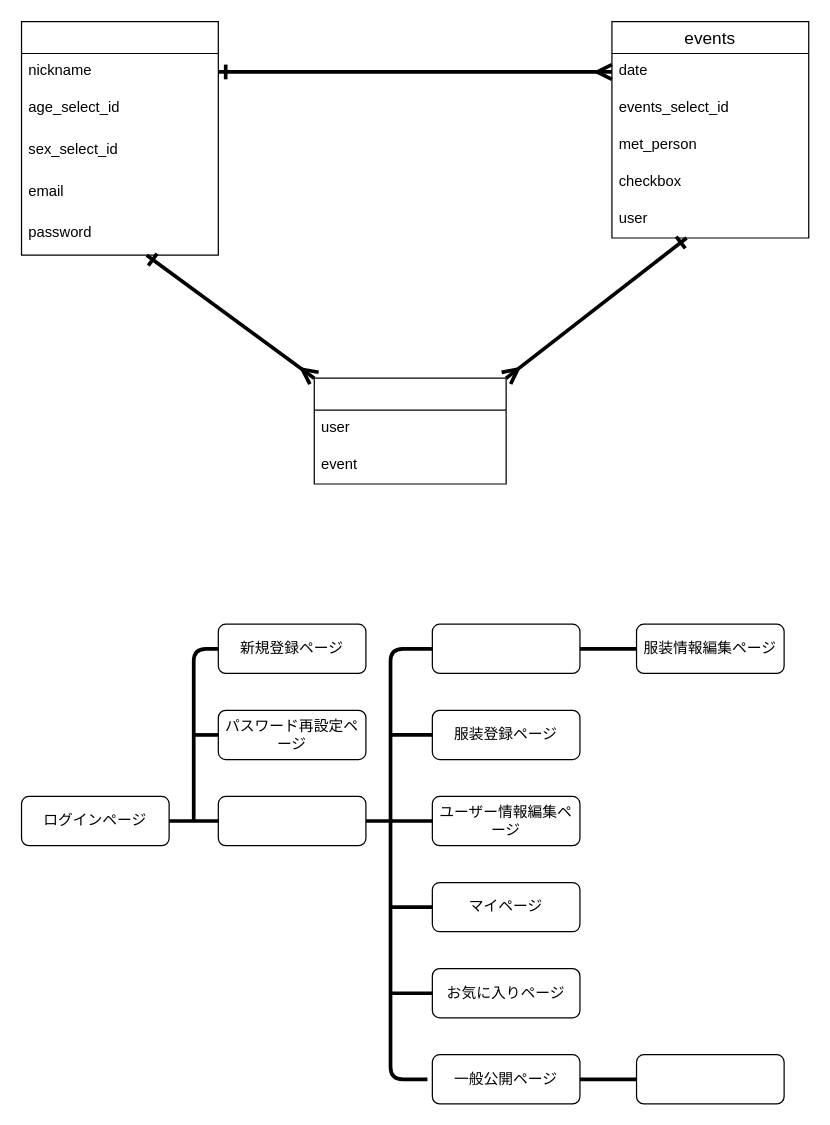
The diagram is 830 pixels wide and 1125 high, and some of its shapes have lost their labels. Here are the shapes that lost their labels. From the top down, the box of each, then its label:
(20, 20, 218, 255): users
(313, 377, 506, 484): likes
(431, 623, 580, 673): 服装詳細ページ
(217, 795, 366, 846): カレンダーページ
(635, 1053, 784, 1104): 絞り込みページ
